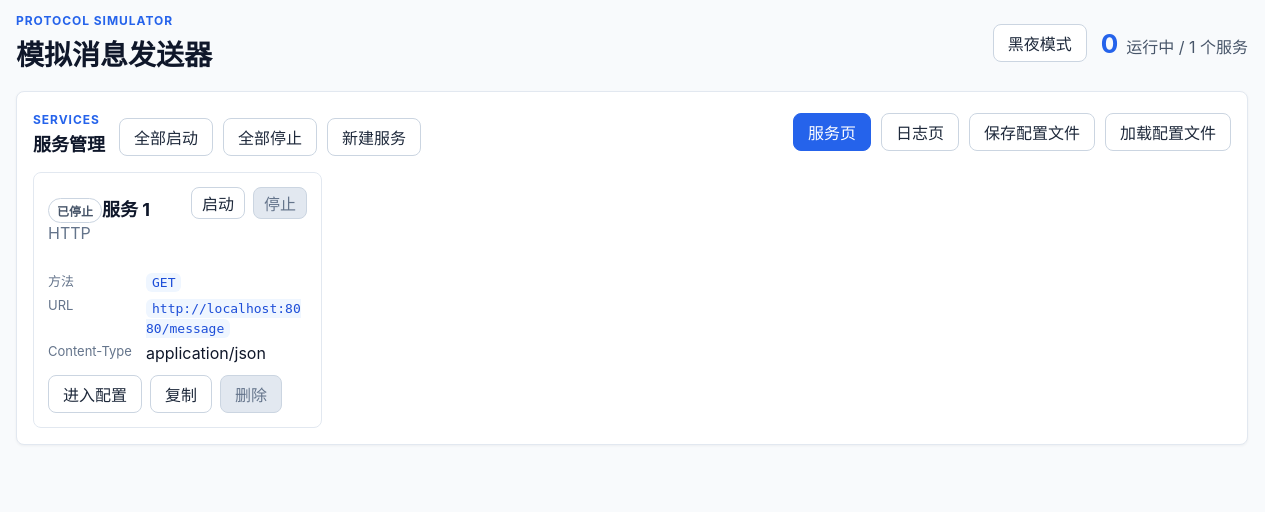
Test: runtime controls › does not clear occupied ports when the user cancels
The width and height of the screenshot is (1265, 512).
Click the button "启动" at (218, 203), box top-left (191, 187), bottom-right (245, 219)
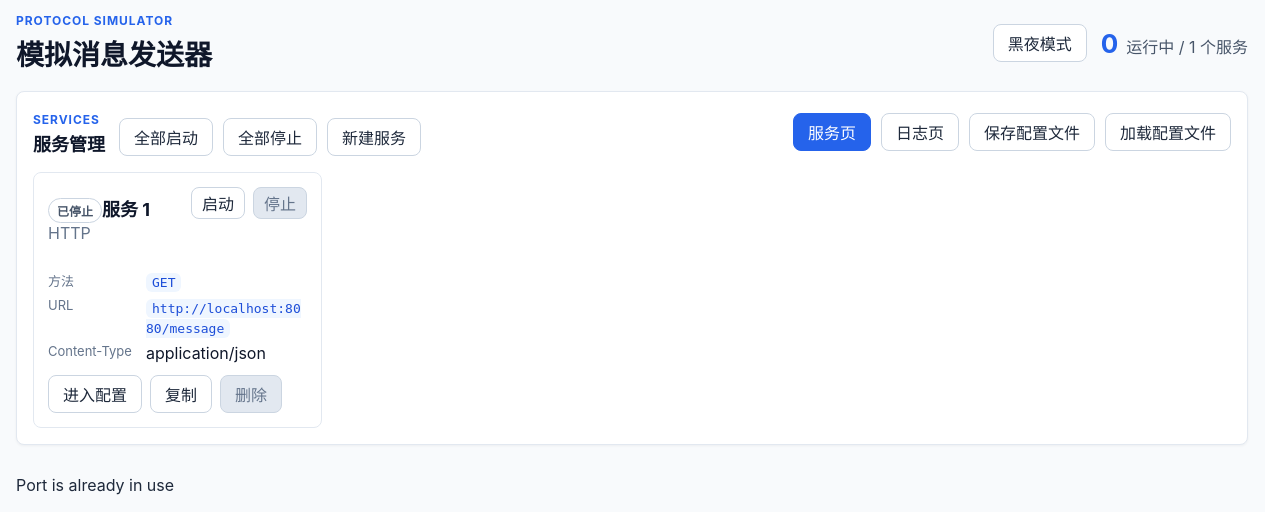
Now the message reads "Port is already in use", box top-left (16, 475), bottom-right (174, 495)
